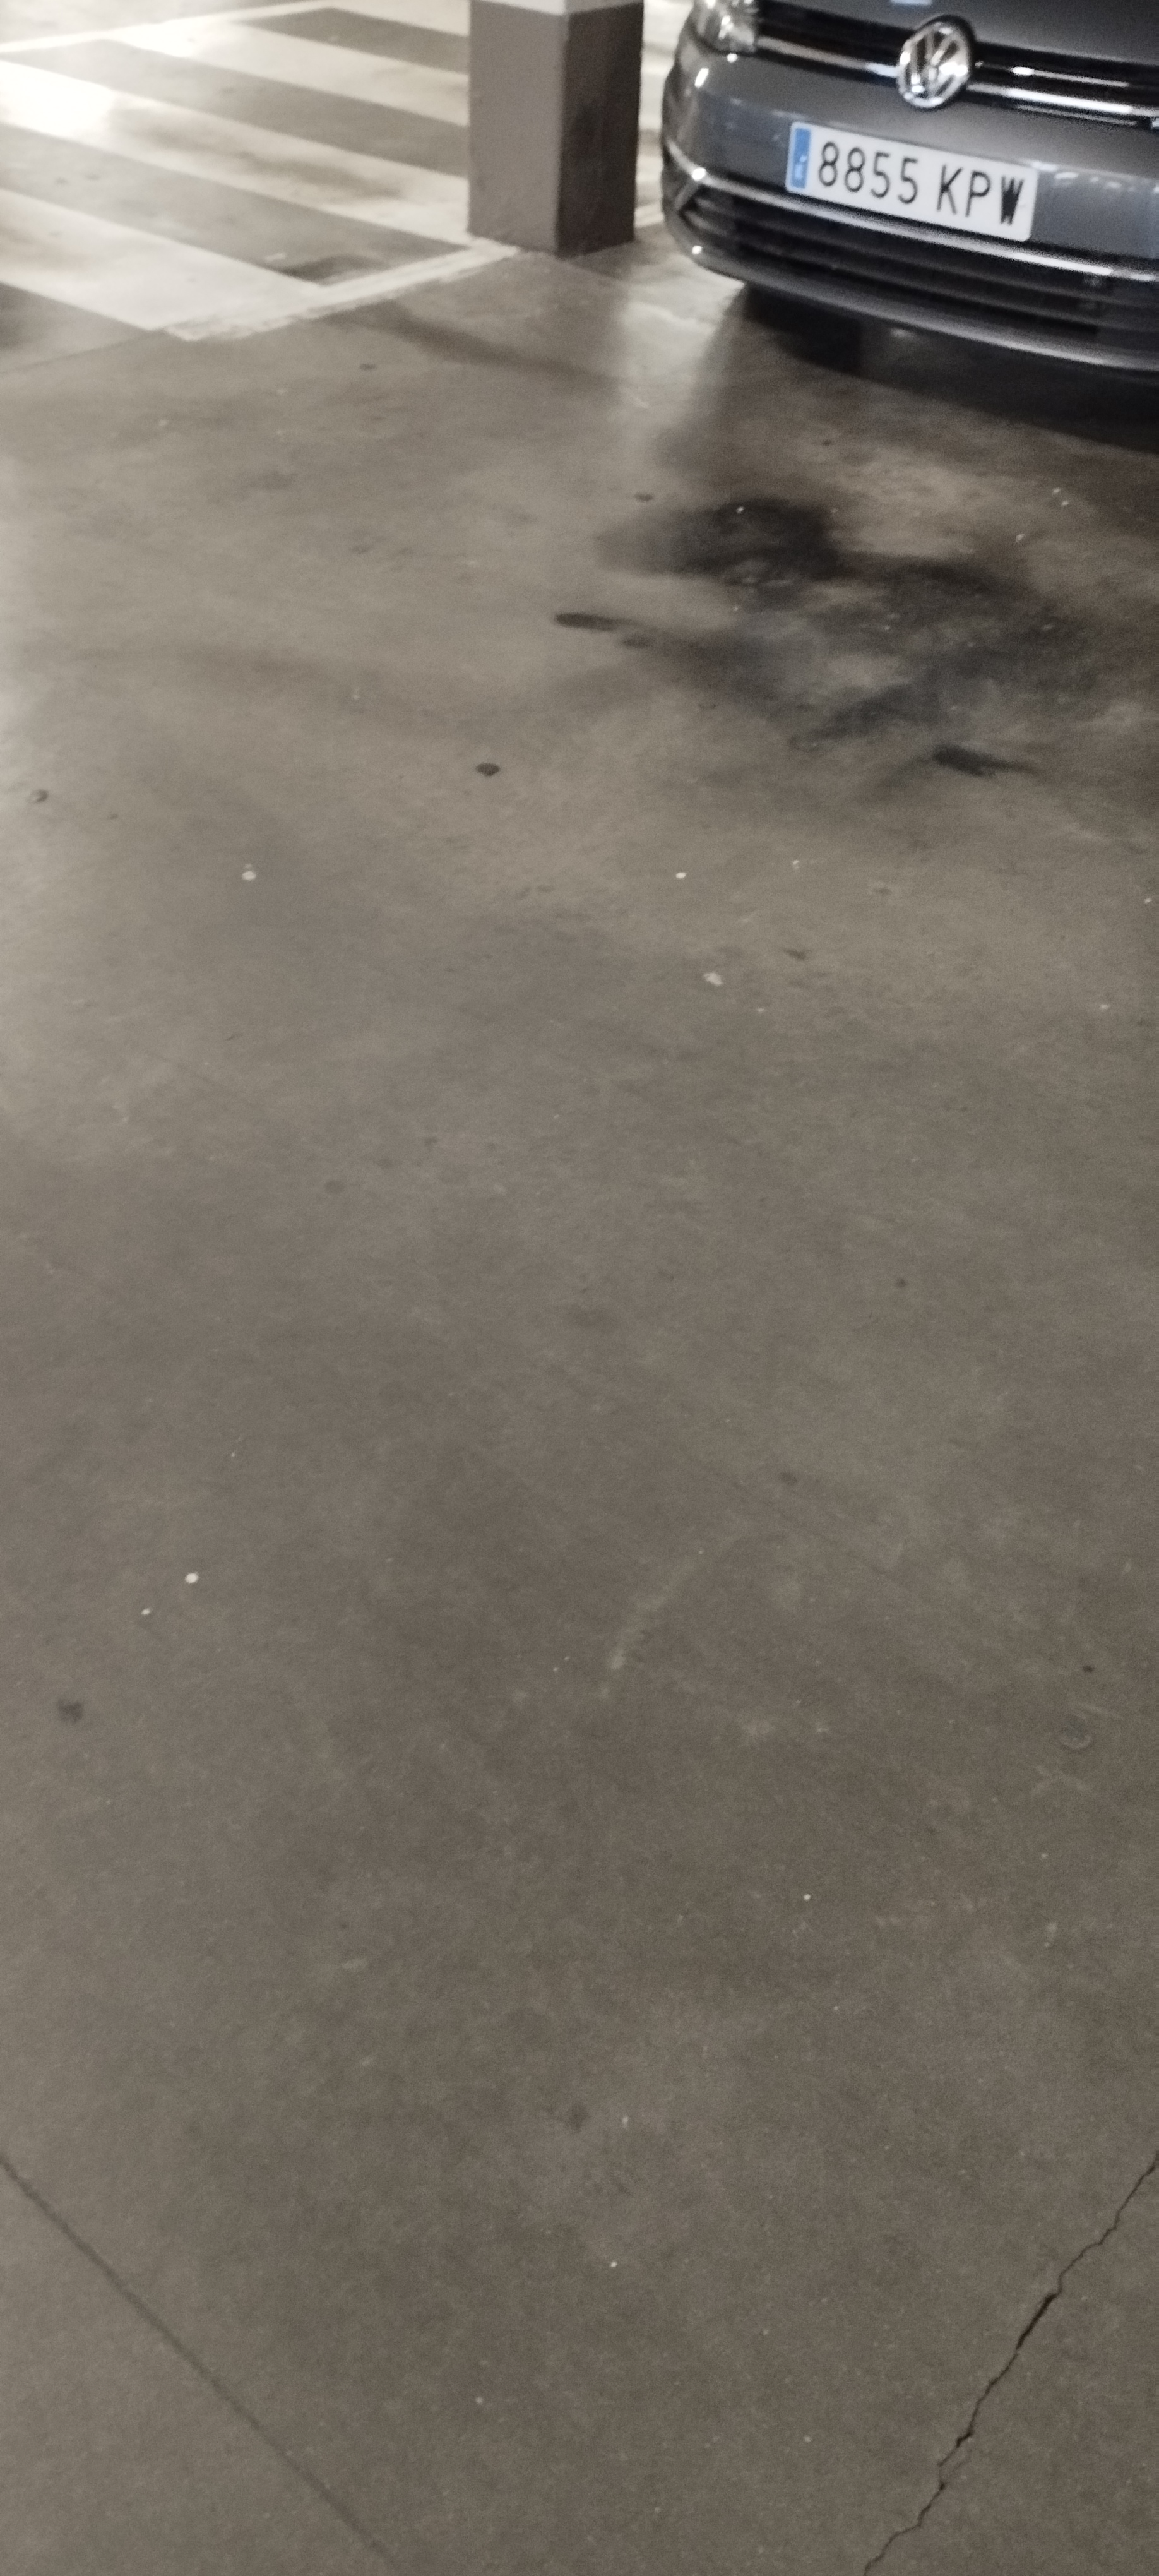Plate: (798, 115, 1038, 200)
